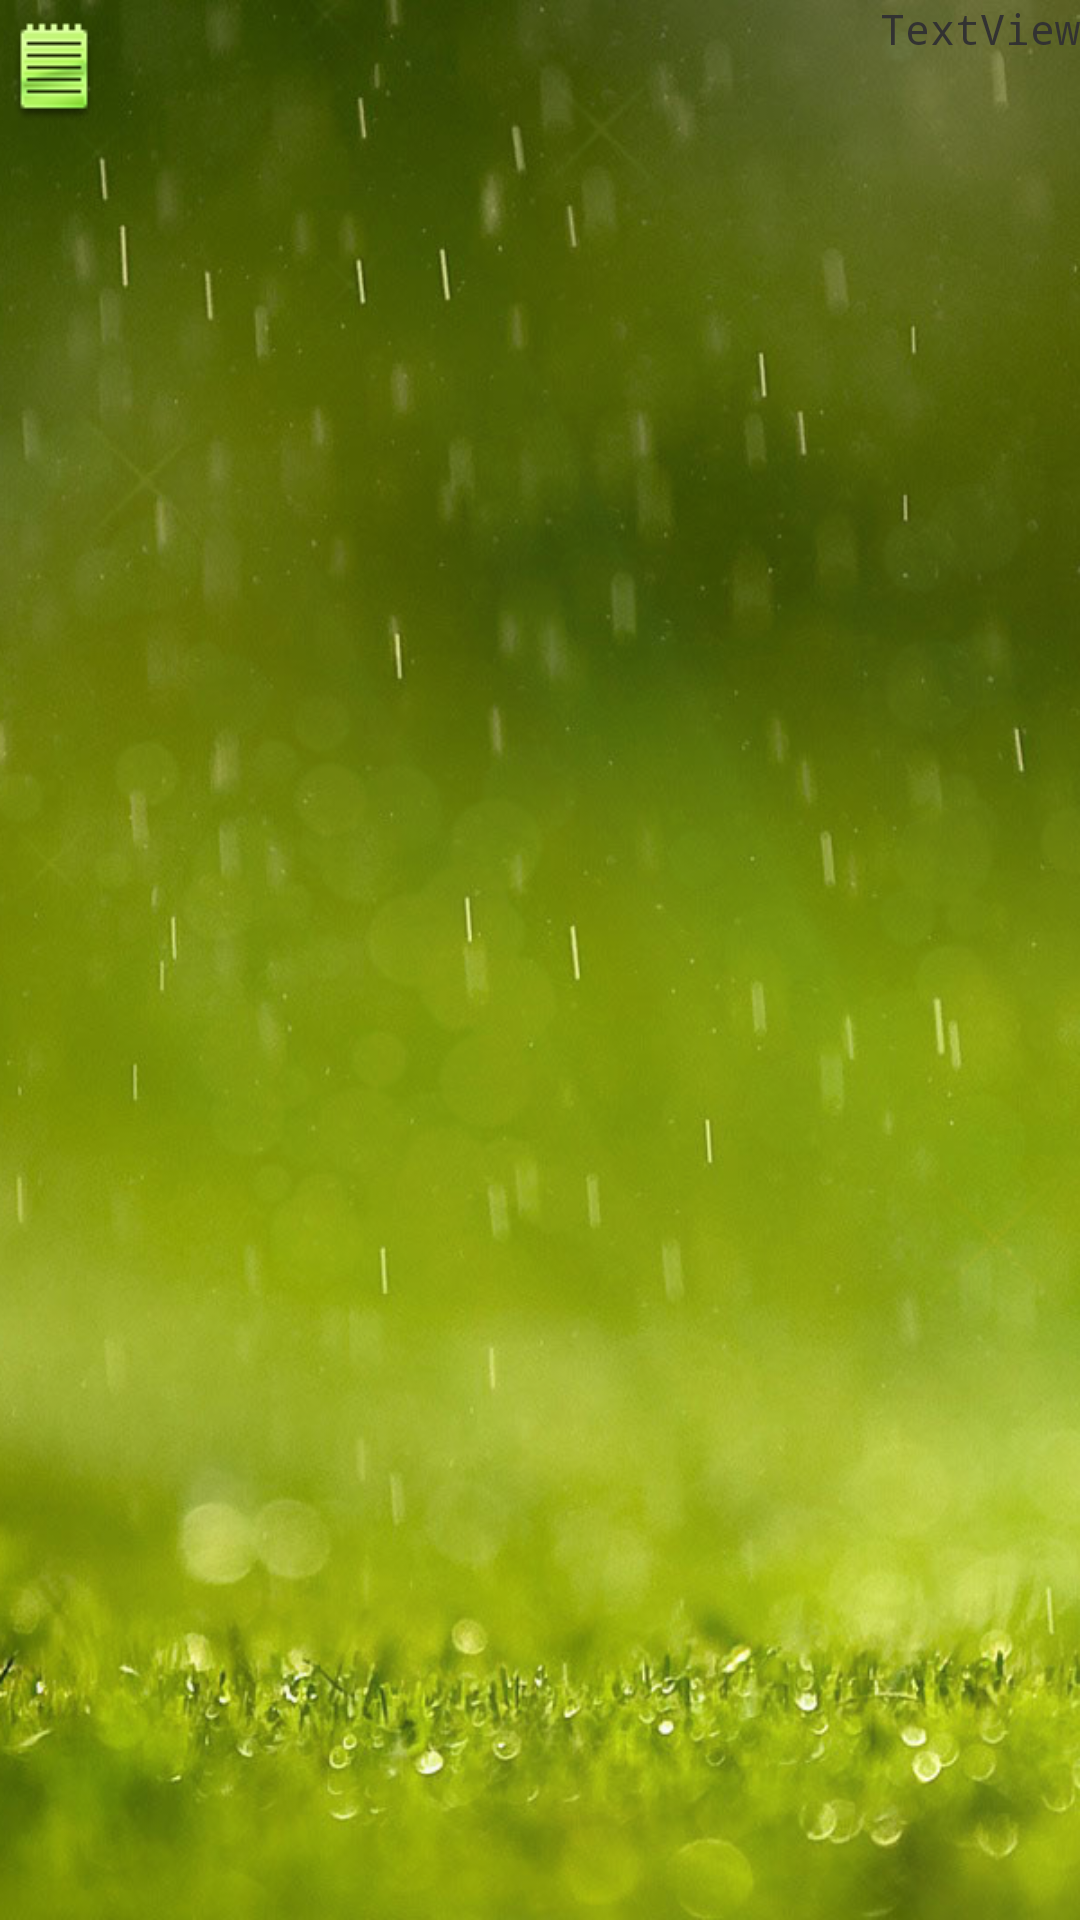

Point at icon controls on the screen. Image size 1080 x 1920, points as point (x, y).
notepadicon: point (56, 56)
